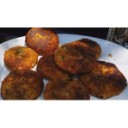cutlet: (83, 63, 126, 96), (2, 70, 45, 100), (56, 45, 96, 73), (45, 78, 93, 100), (25, 27, 61, 51), (5, 47, 37, 69)
